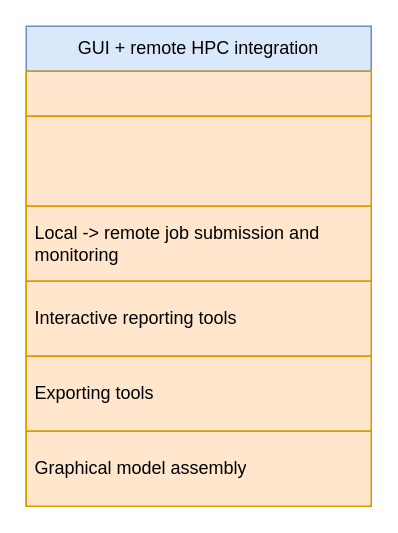
Some shapes in this 398 by 533 pixel diagram are drawn without their labels. Here are the shapes that lost their labels. From the top down, the box of each, then its label:
(25, 70, 371, 116): UI Design
(25, 115, 371, 206): High responsivness
